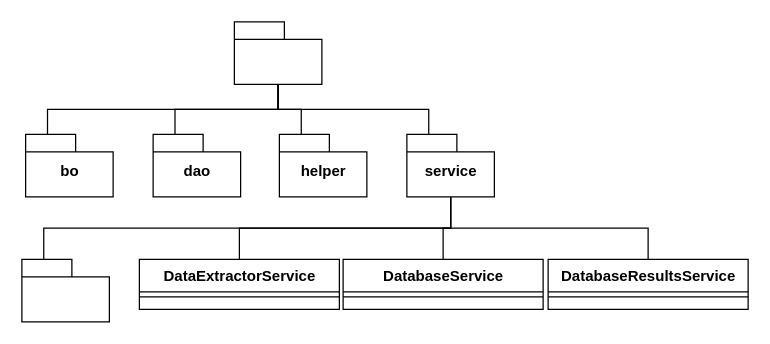
Image size: 770x344. Some labels were removed from this diagram. The centre of each missing label's shape, as x and y in pixels:
domain: (x=277, y=52)
validation: (x=65, y=290)
